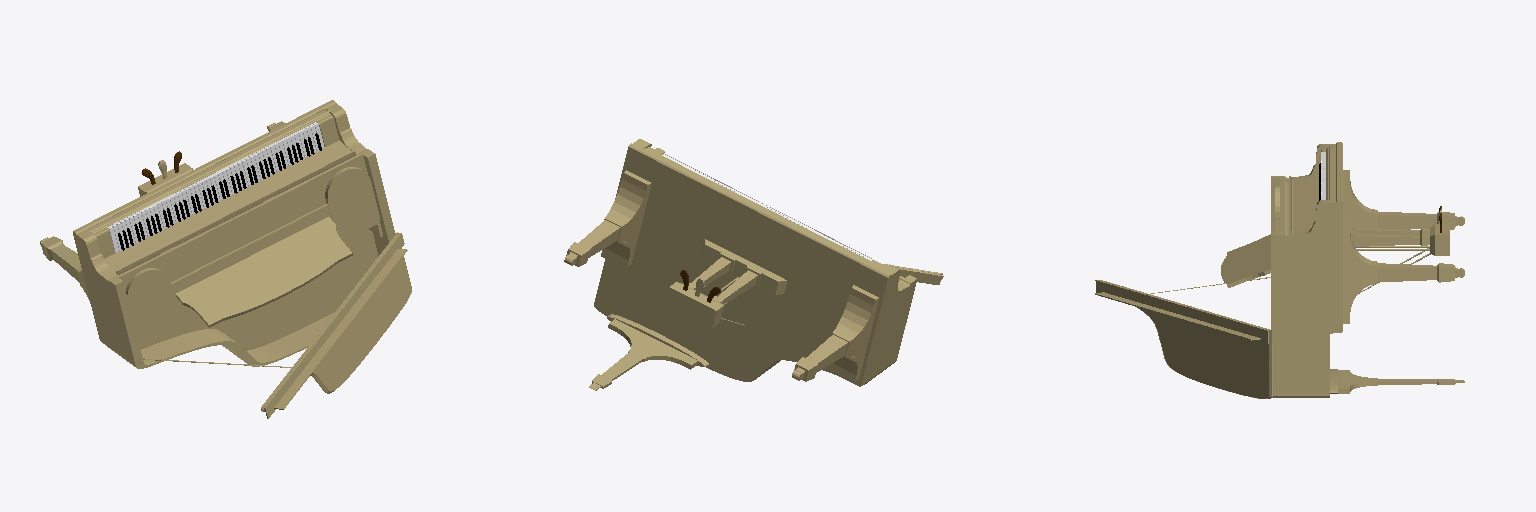
File: Piano.obj
The picture shows the model from 3 angles: view 1: azimuth 30°, elevation 25°; view 2: azimuth 150°, elevation 25°; view 3: azimuth 270°, elevation 25°; orthographic projection.
Size of the model in its own units: 73.77 by 49.69 by 77.77.